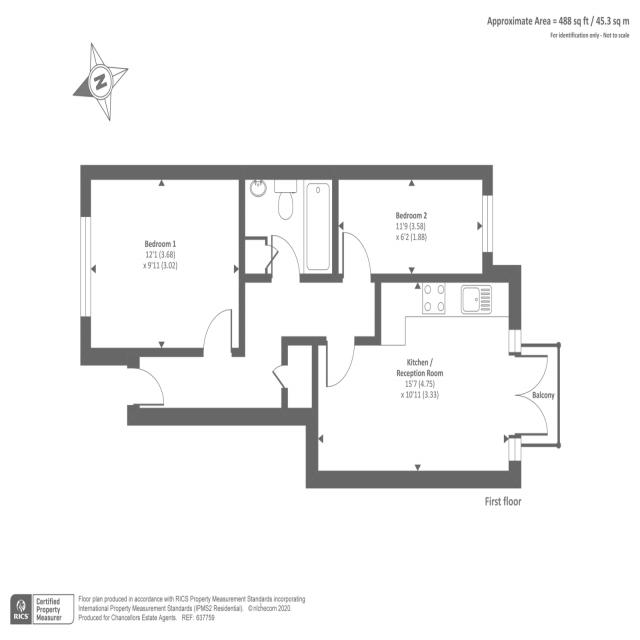DOOR: (325, 336, 356, 388), (201, 307, 233, 357), (341, 231, 372, 282), (127, 366, 165, 407), (270, 233, 301, 283)
DOUBLE DOOR: (507, 352, 551, 438)
ROOM: (305, 265, 549, 489), (80, 164, 246, 365), (332, 164, 493, 283)
WINDOW: (80, 216, 92, 318), (481, 194, 493, 254), (508, 329, 522, 353), (508, 438, 522, 462)
